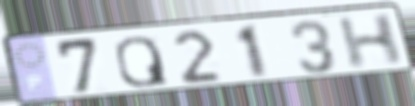1: (235, 22, 274, 82)
2: (169, 28, 229, 87)
3: (289, 18, 338, 76)
7: (53, 37, 103, 98)
H: (335, 11, 405, 72)
Q: (112, 35, 172, 90)
